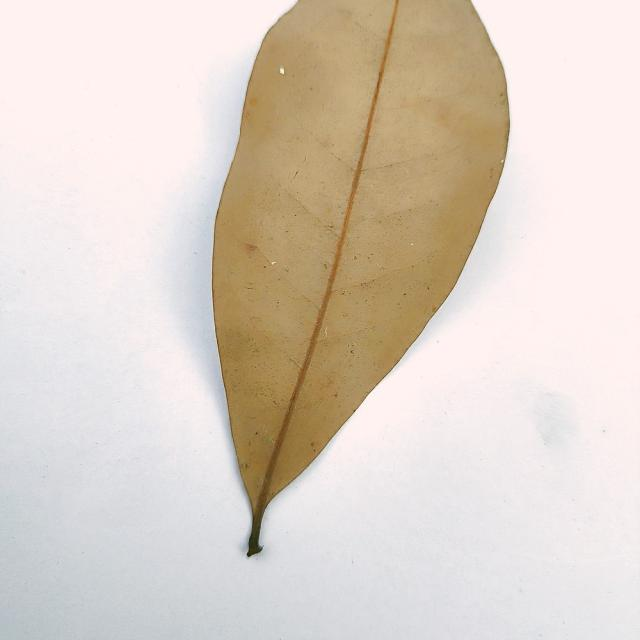Dry_Leaf-Lychee: (211, 0, 511, 559)
